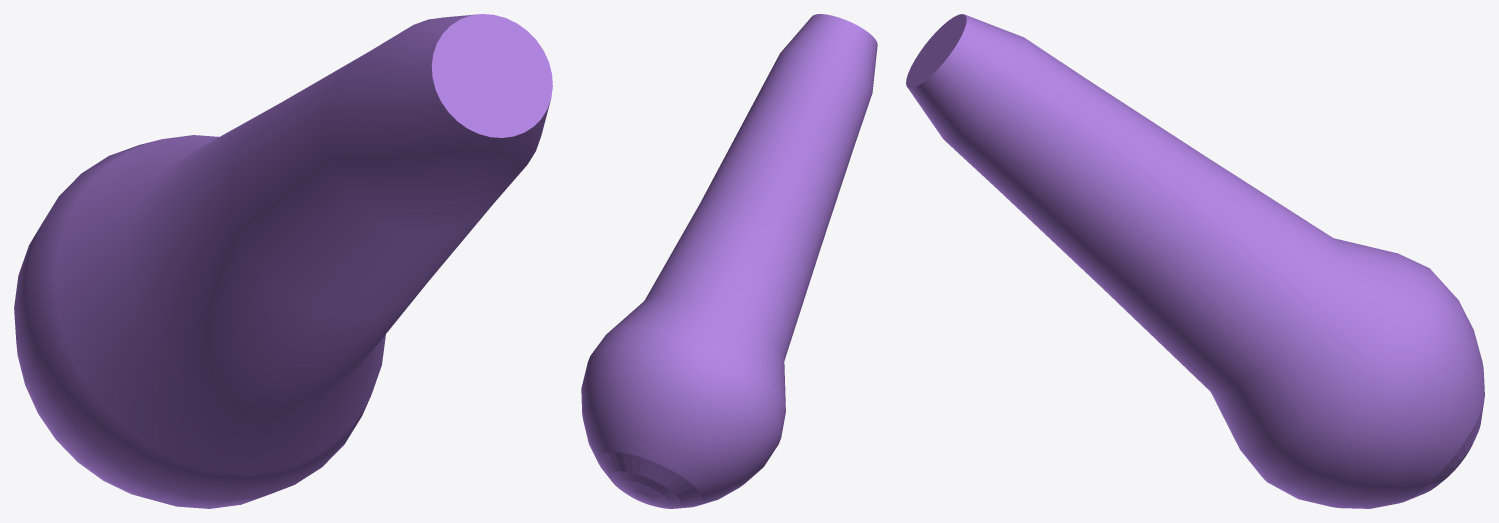
Rendered from Matraz.fbx.
3 renders of one model, left to right at view 1: azimuth 30°, elevation 25°; view 2: azimuth 150°, elevation 25°; view 3: azimuth 270°, elevation 25°, orthographic. The views are drawn at different scales.
Visible parts, largest first — view 1: Aplastar Mortero; view 2: Aplastar Mortero; view 3: Aplastar Mortero.
Boxes of the visible parts, x1=… form: Aplastar Mortero: x1=14, y1=14, x2=552, y2=508; Aplastar Mortero: x1=581, y1=14, x2=877, y2=508; Aplastar Mortero: x1=906, y1=14, x2=1484, y2=508.
Bounding box in the file's own units: 2.79 × 5.47 × 6.
